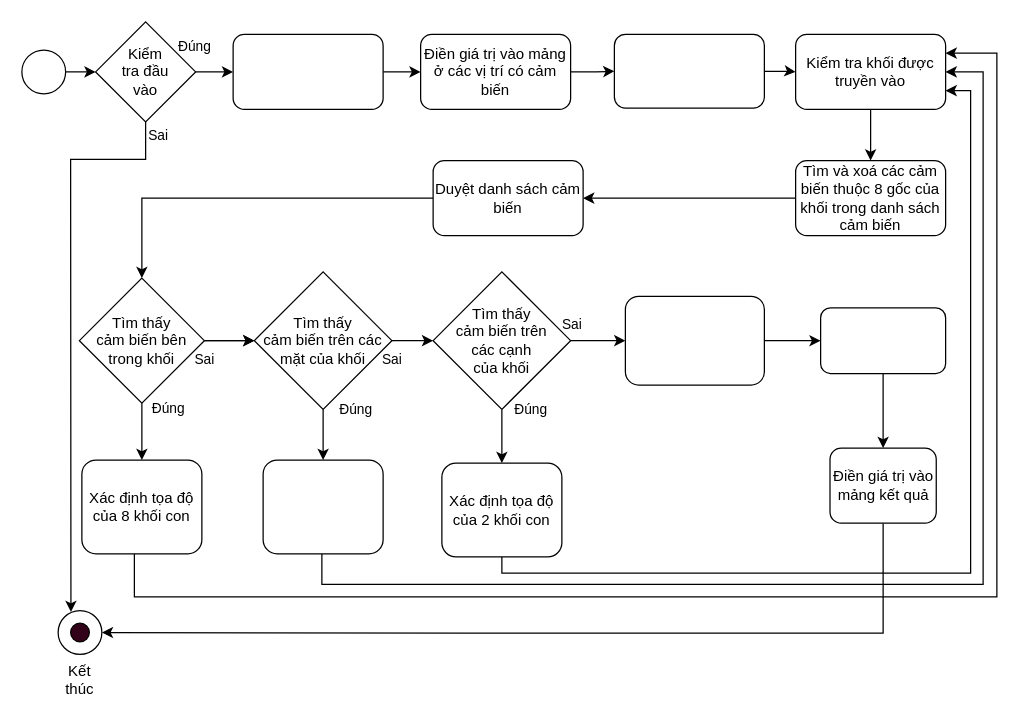
Some shapes in this 1029 by 721 pixel diagram are drawn without their labels. Each missing label, with the centre of its shape:
"Bắt đầu" goes at (x=43, y=71).
"Khởi tạo mảng kết quả" goes at (x=307, y=71).
"Nội suy các gốc thiếu của khối bằng 8 gốc của khối cha" goes at (x=694, y=340).
"Nội suy tất cả giá trị nhiệt độ của khối" goes at (x=882, y=340).
"Xác định khối lớn nhất của kho lạnh" goes at (x=688, y=70).
"Xác định tọa độ của 4 khối con" goes at (x=322, y=506).
